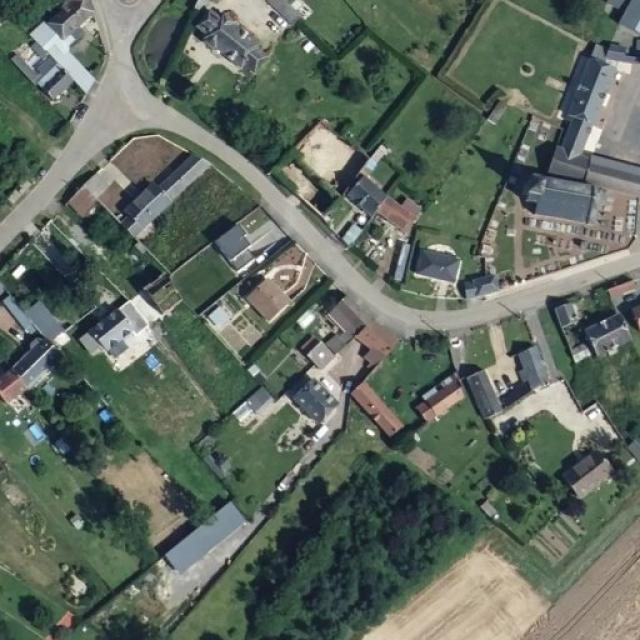ferme: (166, 493, 253, 570)
maison: (106, 151, 206, 235), (12, 22, 100, 110), (79, 292, 162, 373), (0, 308, 58, 392), (343, 182, 422, 236), (560, 304, 628, 364), (328, 295, 397, 353), (212, 205, 274, 264), (279, 375, 339, 429), (410, 234, 468, 288), (352, 385, 402, 437), (557, 443, 605, 489), (459, 368, 502, 414), (516, 346, 550, 385)
villa: (516, 5, 640, 255), (206, 248, 322, 348), (196, 0, 308, 78)
